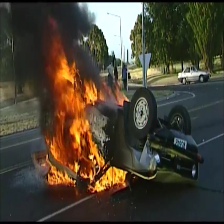fire_h: (40, 16, 105, 181), (88, 166, 127, 193), (101, 82, 130, 107), (47, 166, 76, 185)
fire_l: (41, 152, 53, 168)
